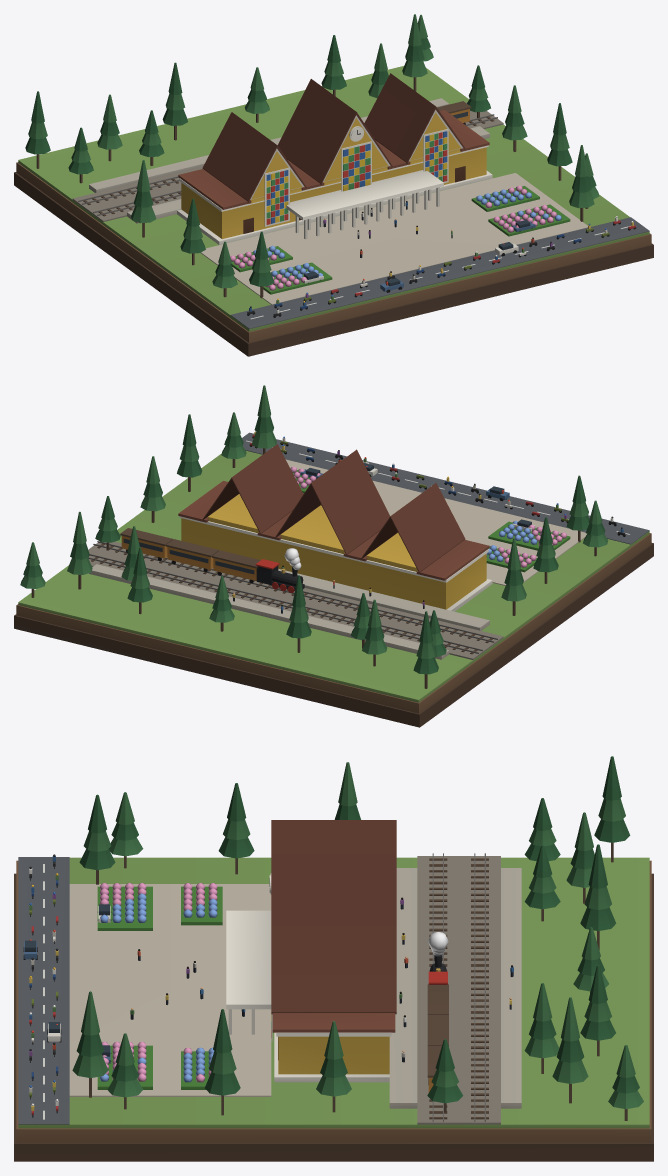
The model's file is ga-da-lat.glb.
The picture shows the model from 3 angles, top to bottom: view 1: azimuth 30°, elevation 25°; view 2: azimuth 150°, elevation 25°; view 3: azimuth 270°, elevation 25°; orthographic projection. The views are drawn at different scales.
Parts seen in each view (by area): view 1: GD_env_GD_brass; view 2: GD_env_GD_brass; view 3: GD_env_GD_brass.
Part boxes in pixels (x1,y1,x2,y2): GD_env_GD_brass: [14, 14, 653, 356]; GD_env_GD_brass: [14, 385, 653, 727]; GD_env_GD_brass: [14, 756, 653, 1161].
Bounding box in the file's own units: 93.2 × 27.35 × 92.01.
Materials: 1 (1 with a texture image).
